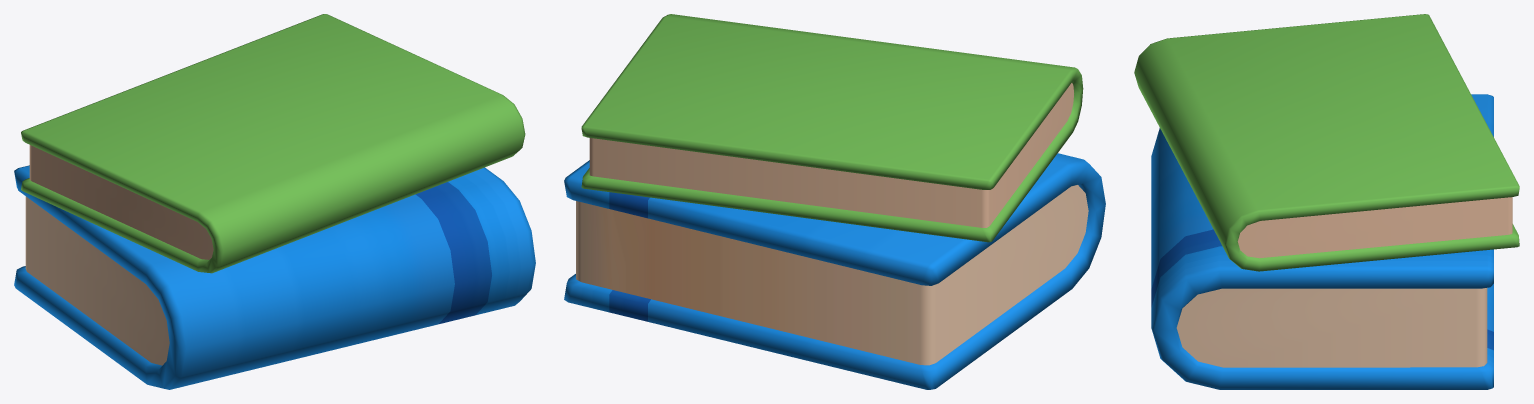
The model's file is Book_04.glb.
The picture shows the model from 3 angles, left to right: view 1: azimuth 30°, elevation 25°; view 2: azimuth 150°, elevation 25°; view 3: azimuth 270°, elevation 25°; orthographic projection. The views are drawn at different scales.
Visible parts, largest first — view 1: Book_04; view 2: Book_04; view 3: Book_04.
Boxes of the visible parts, box(x1,y1,x2,y2) form: Book_04: box(14, 14, 535, 389); Book_04: box(564, 14, 1105, 389); Book_04: box(1134, 14, 1519, 389).
Bounding box in the file's own units: 0.3118 × 0.1376 × 0.2523.
1 material, 1 textured.
